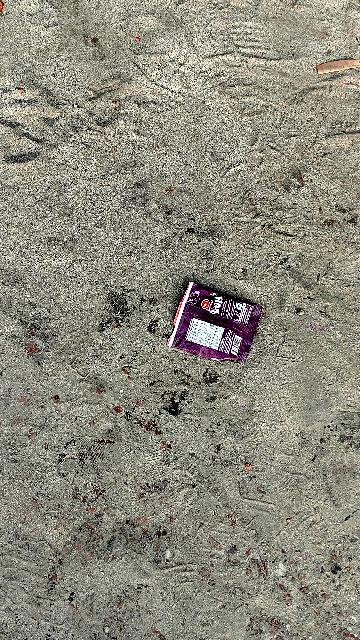packet: (167, 278, 270, 372)
